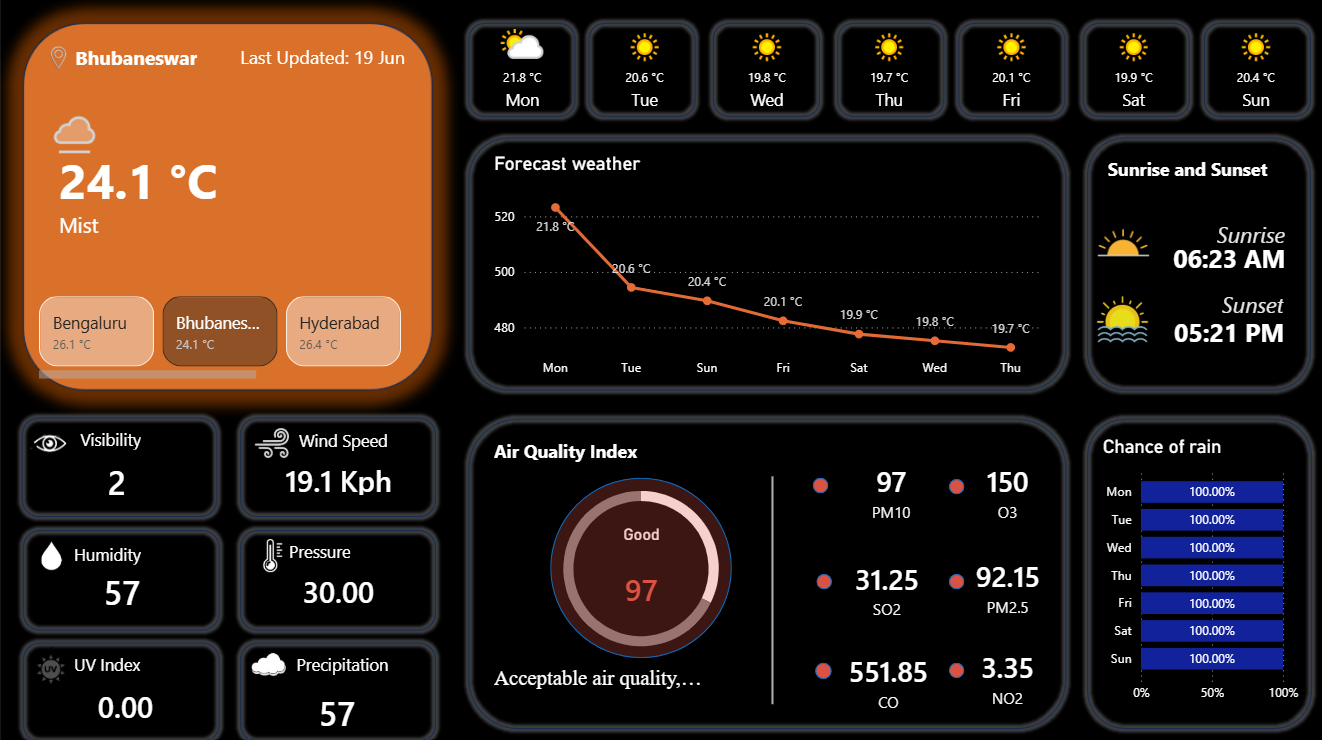

Layout of this report page (visuals, bound fields, positions):
{"tool":"powerbi","page":{"name":"Page 1","canvas":[1280,720],"ordinal":0},"visuals":[{"type":"advancedSlicerVisual","fields":{"Values":["Location.location.name"]},"box":[33.3,282.7,361.7,91.4],"z":0},{"type":"shape","box":[58,120.9,206,106.1],"z":1000},{"type":"shape","box":[58,175.1,206,86.3],"z":2000},{"type":"shape","box":[186.2,34.5,206,41.9],"z":3000},{"type":"shape","box":[74,34.5,206,41.9],"z":4000},{"type":"cardVisual","fields":{"Data":["Min(Current.current.condition.icon)"]},"box":[16,66.6,114.7,106.1],"z":5000},{"type":"image","box":[25.9,405.8,48.1,46.9],"z":6000},{"type":"image","box":[25.9,41.9,65.4,28.4],"z":7000},{"type":"shape","box":[78.9,408.2,104.8,33.3],"z":8000},{"type":"image","box":[25.9,521.7,50.6,32.1],"z":9000},{"type":"image","box":[240.5,405.8,48.1,46.9],"z":10000},{"type":"image","box":[28.4,625.3,45.6,34.5],"z":11000},{"type":"image","box":[240.5,625.3,39.5,34.5],"z":12000},{"type":"image","box":[240.5,521.7,48.1,32.1],"z":13000},{"type":"image","box":[25.9,625.3,48.1,46.9],"z":14000},{"type":"shape","box":[287.4,625.3,104.8,34.5],"z":15000},{"type":"shape","box":[72.8,625.3,104.8,34.5],"z":16000},{"type":"shape","box":[72.8,516.8,104.8,37],"z":17000},{"type":"shape","box":[280,511.9,104.8,41.9],"z":18000},{"type":"shape","box":[289.8,410.7,104.8,30.8],"z":19000},{"type":"cardVisual","fields":{"Data":["Sum(Current.current.humidity)"]},"box":[72.8,537.8,102.4,65.4],"z":20000},{"type":"cardVisual","fields":{"Data":["Sum(Current.current.humidity)"]},"box":[280,654.9,102.4,65.4],"z":21000},{"type":"cardVisual","fields":{"Data":["Sum(Current.current.pressure_in)"]},"box":[263.9,537.8,141.8,65.4],"z":22000},{"type":"cardVisual","fields":{"Data":["Sum(Current.current.uv)"]},"box":[66.6,648.8,127,65.4],"z":23000},{"type":"cardVisual","fields":{"Data":["Sum(Current.current.vis_km)"]},"box":[76.5,432.1,74.1,64.2],"z":24000},{"type":"cardVisual","fields":{"Data":["Measure.Wind_Speed"]},"box":[246.9,430.9,167.9,65.4],"z":25000},{"type":"advancedSlicerVisual","fields":{"Values":["Forecast_day.Day_name"]},"box":[445.3,21,835,104.8],"z":26000},{"type":"lineChart","title":"Forecast weather","fields":{"Category":["Forecast_day.Day_name"],"Y":["Sum(Forecast_day.forecast.forecastday.day.avgtemp_c)"]},"box":[472.9,148.4,538.1,225.6],"z":27000},{"type":"shape","box":[1070.1,148.4,161.7,30.2],"z":28000},{"type":"shape","box":[1100.3,219.6,141.2,61.5],"z":29000},{"type":"shape","box":[1099.1,281.1,141.2,79.6],"z":30000},{"type":"shape","box":[1100.3,199.1,141.2,55.5],"z":31000},{"type":"shape","box":[1099.1,267.8,141.2,53.1],"z":32000},{"type":"image","box":[1060.5,208.7,49.5,53.1],"z":33000},{"type":"image","box":[1042.4,281.1,84.5,56.7],"z":34000},{"type":"hundredPercentStackedBarChart","title":"Chance of rain","fields":{"Y":["Sum(Forecast_day.forecast.forecastday.day.daily_chance_of_rain)","Current.Left_value_rain"],"Category":["Forecast_day.Day_name"]},"box":[1060.5,421,199.1,266.6],"z":35000},{"type":"shape","box":[477.8,421,161.7,30.2],"z":36000},{"type":"cardVisual","fields":{"Data":["Sum(Current.current.air_quality.o3)"]},"box":[917.5,429.2,113.1,93.5],"z":37000},{"type":"cardVisual","fields":{"Data":["Sum(Current.current.air_quality.pm2_5)"]},"box":[903.7,521,140.7,93.8],"z":38000},{"type":"cardVisual","fields":{"Data":["Sum(Current.current.air_quality.co)"]},"box":[784.9,612.9,146.6,93.3],"z":39000},{"type":"cardVisual","fields":{"Data":["Sum(Current.current.air_quality.so2)"]},"box":[795.1,523.5,124.7,93.8],"z":40000},{"type":"cardVisual","fields":{"Data":["Sum(Current.current.air_quality.pm10)"]},"box":[804.3,429.2,113.1,93.5],"z":41000},{"type":"cardVisual","fields":{"Data":["Sum(Current.current.air_quality.no2)"]},"box":[917.5,608.8,113.1,93.5],"z":42000},{"type":"shape","box":[784.9,461.5,15,15],"z":43000},{"type":"shape","box":[787.3,640.7,15.7,15.7],"z":44000},{"type":"shape","box":[706.2,460.5,81.5,219.8],"z":45000},{"type":"shape","box":[788.9,555.6,14.8,14.8],"z":46000},{"type":"shape","box":[917.3,463,14.8,14.8],"z":47000},{"type":"shape","box":[917.3,555.6,14.8,14.8],"z":48000},{"type":"shape","box":[917.3,640.7,14.8,14.8],"z":49000},{"type":"donutChart","fields":{"Y":["Sum(Current.current.air_quality.pm10)","Measure.Left_value_PM10"]},"box":[472.8,450.6,293.8,197.5],"z":50000},{"type":"cardVisual","fields":{"Data":["Sum(Current.current.air_quality.pm10)"]},"box":[558,507.4,123.5,101.2],"z":51000},{"type":"shape","box":[532.1,461.7,175.3,174.1],"z":52000},{"type":"shape","box":[477.8,640.7,203.7,30.9],"z":53000}]}

Visuals, with their boxes in screenshot pixels (x1, y1, x2, y2), scaled from the page's 1280x720 canvas onto the 1322x740 screenshot:
advancedSlicerVisual - Location.location.name: select_region(34, 291, 408, 384)
shape: select_region(60, 124, 273, 233)
shape: select_region(60, 180, 273, 269)
shape: select_region(192, 35, 405, 79)
shape: select_region(76, 35, 289, 79)
cardVisual - Min(Current.current.condition.icon): select_region(17, 68, 135, 177)
image: select_region(27, 417, 76, 465)
image: select_region(27, 43, 94, 72)
shape: select_region(81, 420, 190, 454)
image: select_region(27, 536, 79, 569)
image: select_region(248, 417, 298, 465)
image: select_region(29, 643, 76, 678)
image: select_region(248, 643, 289, 678)
image: select_region(248, 536, 298, 569)
image: select_region(27, 643, 76, 691)
shape: select_region(297, 643, 405, 678)
shape: select_region(75, 643, 183, 678)
shape: select_region(75, 531, 183, 569)
shape: select_region(289, 526, 397, 569)
shape: select_region(299, 422, 408, 454)
cardVisual - Sum(Current.current.humidity): select_region(75, 553, 181, 620)
cardVisual - Sum(Current.current.humidity): select_region(289, 673, 395, 739)
cardVisual - Sum(Current.current.pressure_in): select_region(273, 553, 419, 620)
cardVisual - Sum(Current.current.uv): select_region(69, 667, 200, 734)
cardVisual - Sum(Current.current.vis_km): select_region(79, 444, 156, 510)
cardVisual - Measure.Wind_Speed: select_region(255, 443, 428, 510)
advancedSlicerVisual - Forecast_day.Day_name: select_region(460, 22, 1321, 129)
"Forecast weather" lineChart: select_region(488, 153, 1044, 384)
shape: select_region(1105, 153, 1272, 184)
shape: select_region(1136, 226, 1282, 289)
shape: select_region(1135, 289, 1281, 371)
shape: select_region(1136, 205, 1282, 262)
shape: select_region(1135, 275, 1281, 330)
image: select_region(1095, 214, 1146, 269)
image: select_region(1077, 289, 1164, 347)
"Chance of rain" hundredPercentStackedBarChart: select_region(1095, 433, 1301, 707)
shape: select_region(493, 433, 660, 464)
cardVisual - Sum(Current.current.air_quality.o3): select_region(948, 441, 1064, 537)
cardVisual - Sum(Current.current.air_quality.pm2_5): select_region(933, 535, 1079, 632)
cardVisual - Sum(Current.current.air_quality.co): select_region(811, 630, 962, 726)
cardVisual - Sum(Current.current.air_quality.so2): select_region(821, 538, 950, 634)
cardVisual - Sum(Current.current.air_quality.pm10): select_region(831, 441, 948, 537)
cardVisual - Sum(Current.current.air_quality.no2): select_region(948, 626, 1064, 722)
shape: select_region(811, 474, 826, 490)
shape: select_region(813, 658, 829, 675)
shape: select_region(729, 473, 814, 699)
shape: select_region(815, 571, 830, 586)
shape: select_region(947, 476, 963, 491)
shape: select_region(947, 571, 963, 586)
shape: select_region(947, 658, 963, 674)
donutChart - Sum(Current.current.air_quality.pm10) x Measure.Left_value_PM10: select_region(488, 463, 792, 666)
cardVisual - Sum(Current.current.air_quality.pm10): select_region(576, 521, 704, 626)
shape: select_region(550, 475, 731, 653)
shape: select_region(493, 658, 704, 690)
